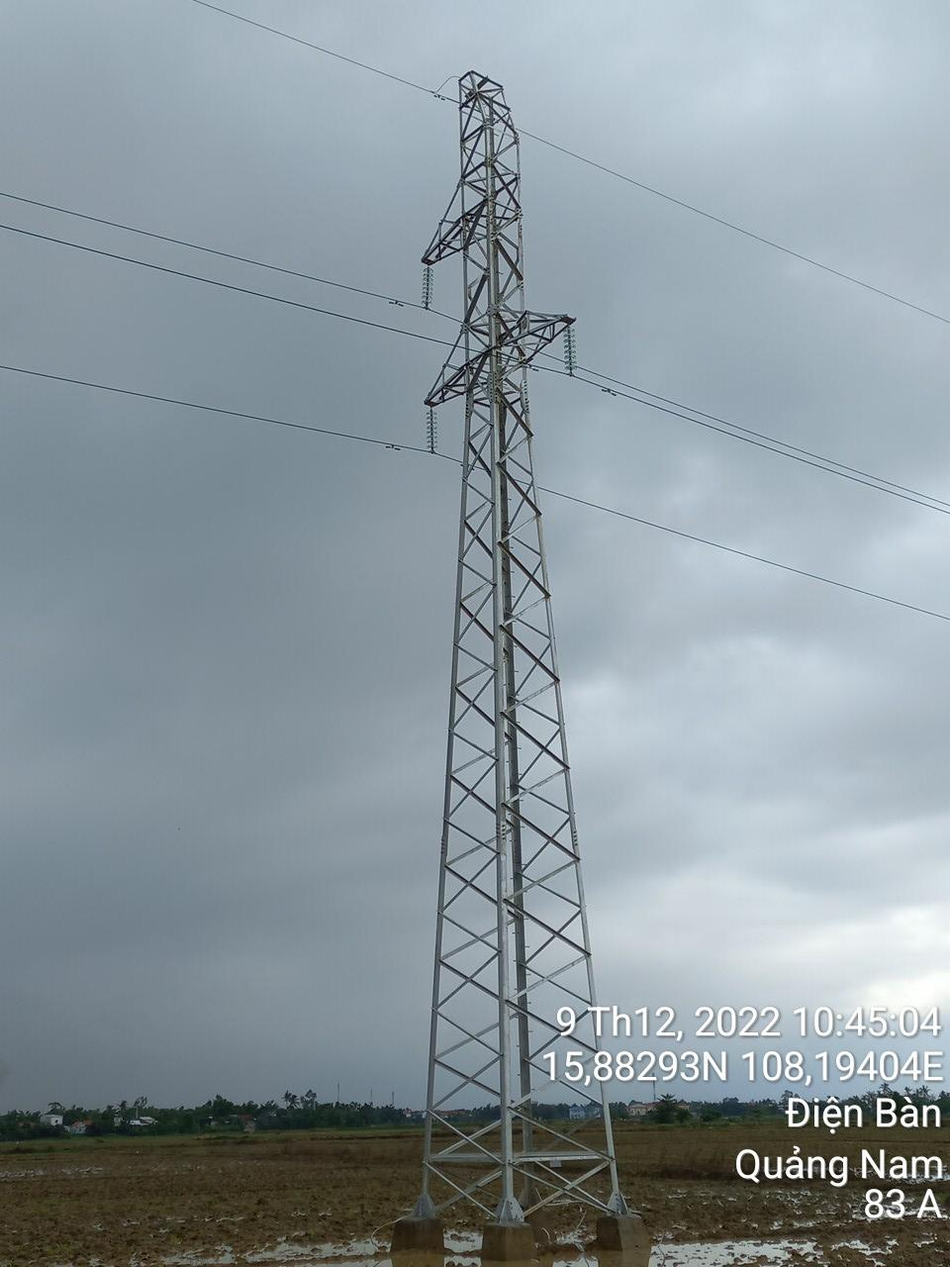power_tower: (386, 49, 604, 980)
